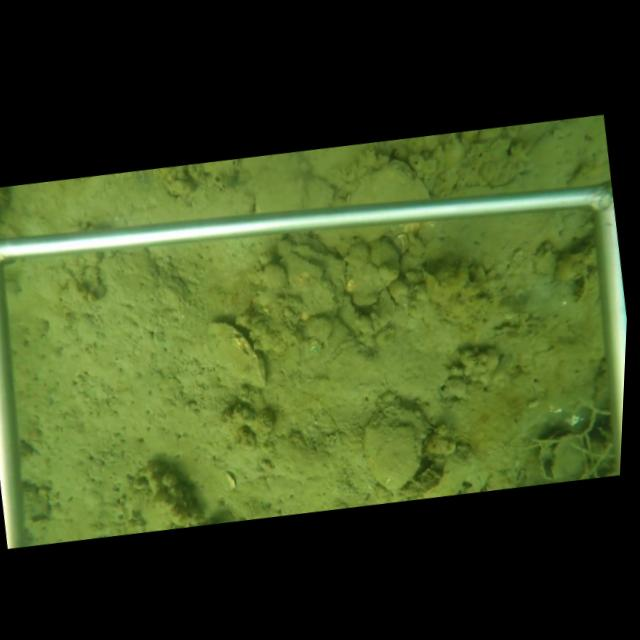Oyster-Closed: (362, 385, 436, 494), (344, 160, 436, 204)
Oyster-Indeterminate: (199, 320, 270, 390), (248, 171, 338, 211), (345, 235, 400, 284), (347, 262, 384, 307), (300, 278, 339, 320), (280, 251, 323, 289), (369, 288, 398, 333), (422, 270, 449, 306), (574, 274, 593, 305)
Oyster-Open: (536, 425, 590, 480)
